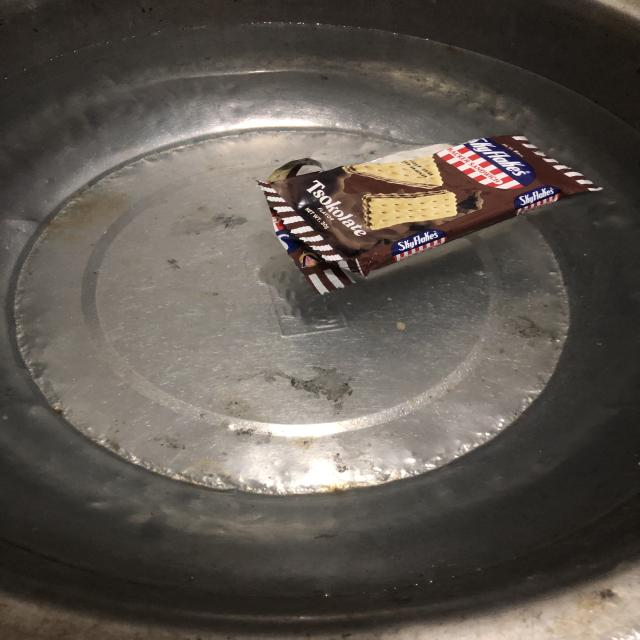Plastic Wrapper: (226, 94, 640, 311)
